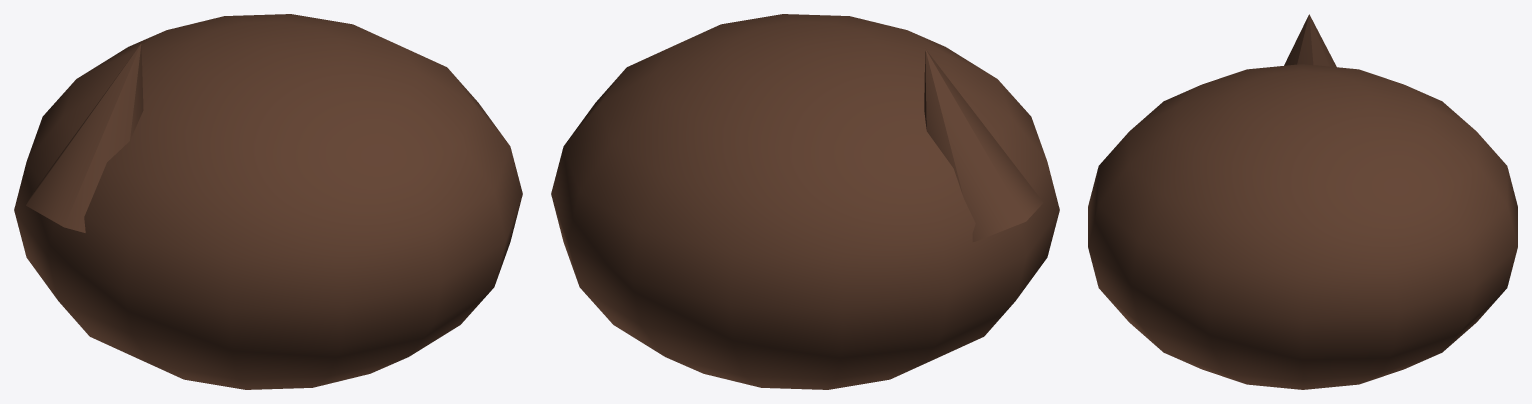
Rendered from braid_hair.glb.
The picture shows the model from 3 angles, left to right: view 1: azimuth 30°, elevation 25°; view 2: azimuth 150°, elevation 25°; view 3: azimuth 270°, elevation 25°; orthographic projection. The views are drawn at different scales.
Parts seen in each view (by area): view 1: hair_cap, hair_detail_1; view 2: hair_cap, hair_detail_1; view 3: hair_cap, hair_detail_1.
Part boxes in pixels (x1,y1,x2,y2): hair_cap: [14, 14, 522, 389]; hair_detail_1: [26, 43, 143, 232]; hair_cap: [551, 14, 1059, 389]; hair_detail_1: [924, 49, 1043, 241]; hair_cap: [1088, 64, 1517, 389]; hair_detail_1: [1284, 14, 1336, 67].
Bounding box in the file's own units: 0.717 × 0.5166 × 0.6824.
